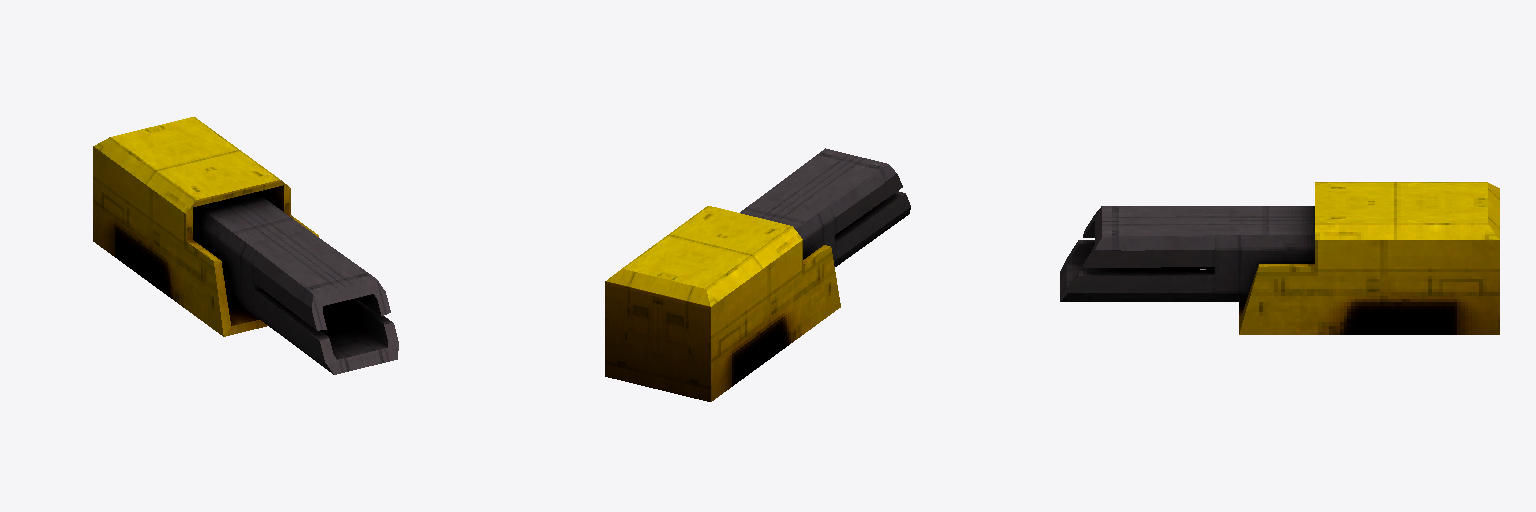
3 renders of one model, left to right at view 1: azimuth 30°, elevation 25°; view 2: azimuth 150°, elevation 25°; view 3: azimuth 270°, elevation 25°, orthographic.
Parts seen in each view (by area): view 1: W; view 2: W; view 3: W.
Part boxes in pixels (x1,y1,x2,y2): W: (93, 117, 398, 374); W: (605, 148, 910, 401); W: (1060, 182, 1499, 334).
Bounding box in the file's own units: 14.22 × 13.71 × 51.37.
Materials: 1 (1 with a texture image).